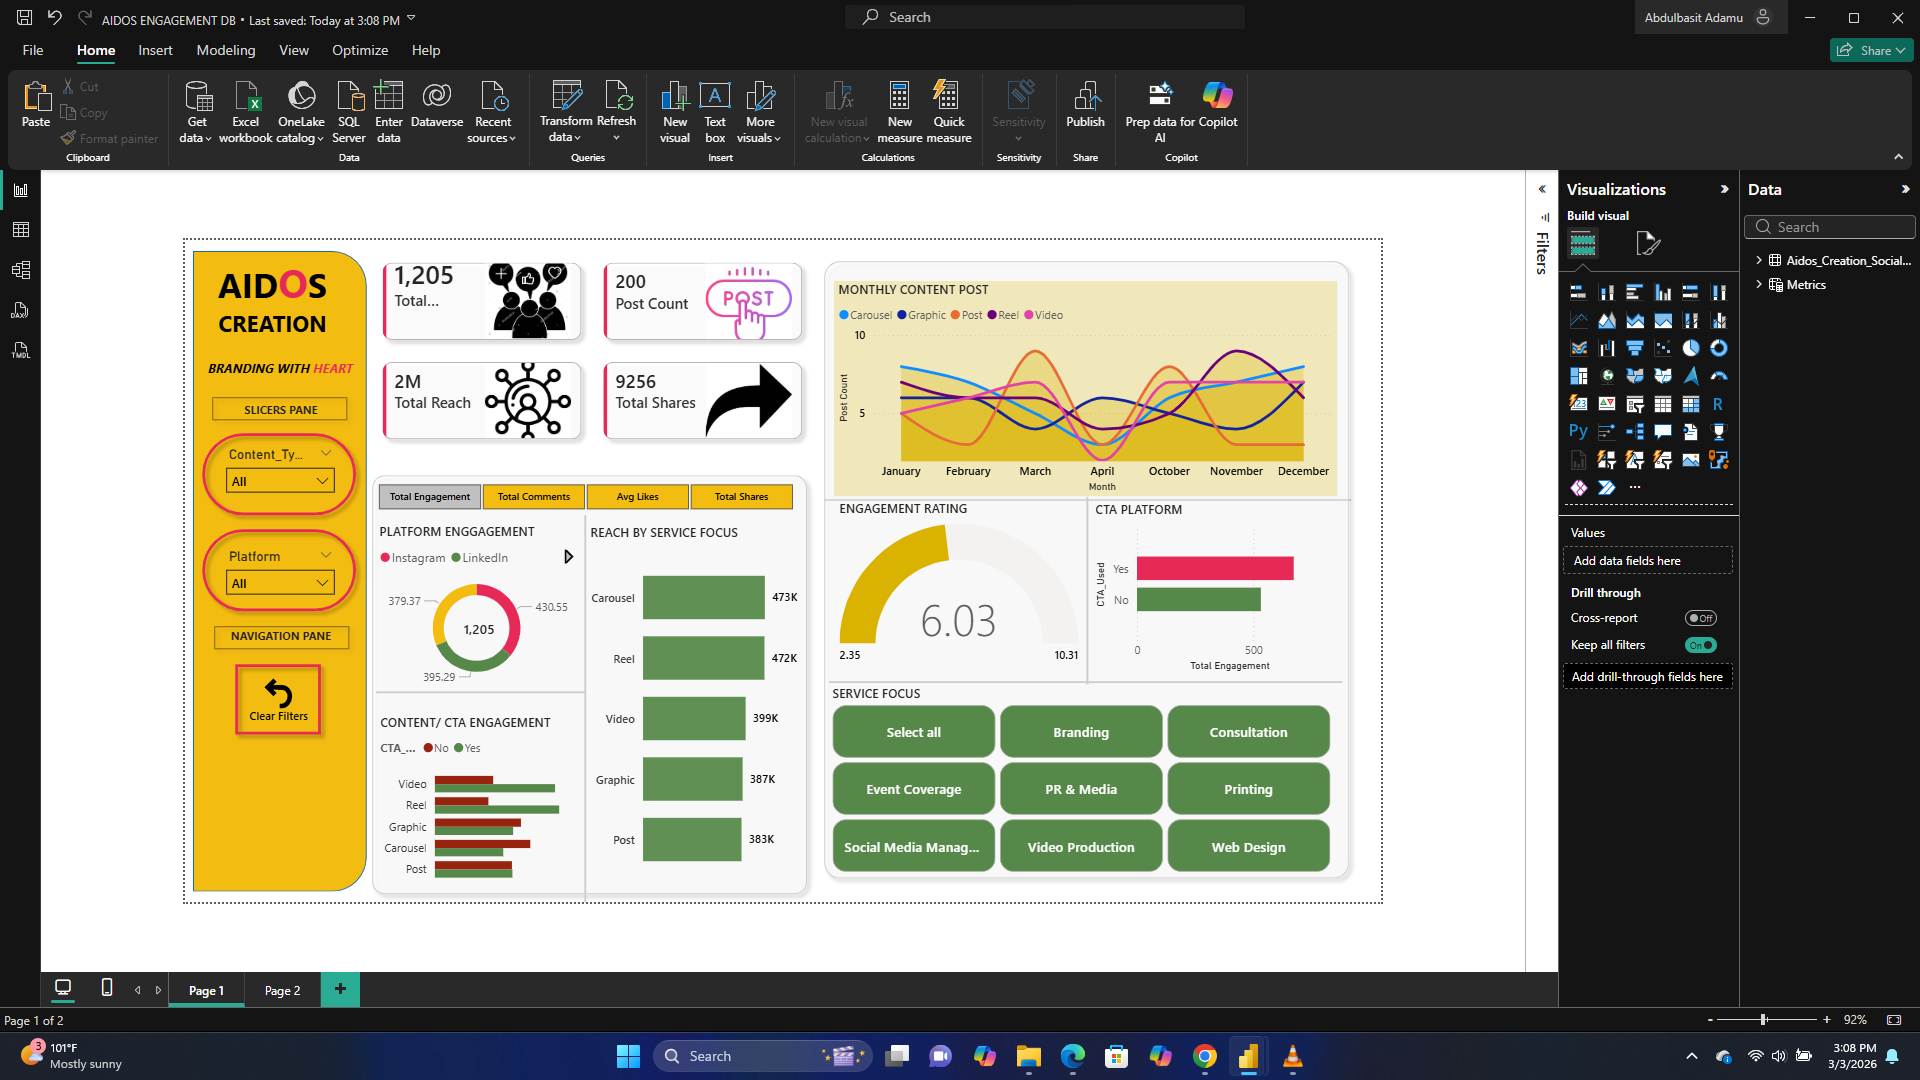

The dashboard page shown, as its layout file describes it:
{"tool":"powerbi","page":{"name":"Page 1","canvas":[1280,720],"ordinal":0},"visuals":[{"type":"cardVisual","fields":{"Data":["Aidos_Creation_Social_Data.Total Engagement","Aidos_Creation_Social_Data.Post Count","Aidos_Creation_Social_Data.Total Reach","Aidos_Creation_Social_Data.Total Shares"]},"box":[198,7.9,490.5,226.9],"z":0},{"type":"shape","box":[9.2,11.8,188.9,696.4],"z":1000},{"type":"textbox","box":[9.2,11.8,173.1,110.2],"z":2000},{"type":"textbox","box":[9.2,108.9,188.9,48.5],"z":3000},{"type":"shape","box":[194.1,246.6,490.5,473.4],"z":4000},{"type":"slicer","fields":{"Values":["Metrics.Metrics"]},"box":[184.9,258.4,499.7,40.7],"z":5000},{"type":"clusteredBarChart","title":"CONTENT/ CTA ENGAGEMENT","fields":{"Y":["Aidos_Creation_Social_Data.Total Engagement"],"Category":["Aidos_Creation_Social_Data.Content_Type"],"Series":["Aidos_Creation_Social_Data.CTA_Used"]},"box":[207.2,515.4,220.3,192.8],"z":6000},{"type":"donutChart","title":"PLATFORM ENGGAGEMENT","fields":{"Y":["Aidos_Creation_Social_Data.Total Engagement"],"Category":["Aidos_Creation_Social_Data.Platform"]},"box":[206.3,308.1,220.8,182.5],"z":7000},{"type":"shape","box":[695.1,234.8,573.1,95.7],"z":8000},{"type":"shape","box":[417,299,35.4,421],"z":9000},{"type":"shape","box":[207.2,466.9,228.2,48.5],"z":10000},{"type":"clusteredBarChart","title":"REACH BY SERVICE FOCUS","fields":{"Category":["Aidos_Creation_Social_Data.Service_Focus","Aidos_Creation_Social_Data.Content_Type"],"Y":["Aidos_Creation_Social_Data.Total Reach"]},"box":[435.4,308.2,234.8,400],"z":11000},{"type":"shape","box":[686.3,14.5,588.4,688.9],"z":12000},{"type":"lineChart","title":"MONTHLY CONTENT POST","fields":{"Category":["Aidos_Creation_Social_Data.Post_Date.Variation.Date Hierarchy.Month"],"Y":["Aidos_Creation_Social_Data.Post Count"],"Series":["Aidos_Creation_Social_Data.Content_Type"]},"box":[705.5,45,547.5,233.9],"z":13000},{"type":"cardVisual","fields":{"Data":["Aidos_Creation_Social_Data.Total Engagement"]},"box":[285.6,370.2,88.6,103.1],"z":14000},{"type":"advancedSlicerVisual","title":"SERVICE FOCUS","fields":{"Values":["Aidos_Creation_Social_Data.Service_Focus"]},"box":[699.1,483.2,553.9,209.5],"z":15000},{"type":"gauge","title":"ENGAGEMENT RATING","fields":{"Y":["Avg(Aidos_Creation_Social_Data.Engagement_Rate_%)"],"MinValue":["Min(Aidos_Creation_Social_Data.Engagement_Rate_%)"],"MaxValue":["Max(Aidos_Creation_Social_Data.Engagement_Rate_%)1"],"TargetValue":["CountNonNull(Aidos_Creation_Social_Data.CTA_Used)"]},"box":[706.1,283,269.8,190.4],"z":16000},{"type":"shape","box":[962.6,279,35.7,203.6],"z":17000},{"type":"shape","box":[699.5,470.7,558,19.8],"z":18000},{"type":"clusteredBarChart","title":"CTA PLATFORM","fields":{"Y":["Aidos_Creation_Social_Data.Total Engagement"],"Category":["Aidos_Creation_Social_Data.CTA_Used"]},"box":[984.9,283.7,267.4,189.5],"z":19000},{"type":"shape","box":[9.3,201,185.1,107.1],"z":20000},{"type":"slicer","fields":{"Values":["Aidos_Creation_Social_Data.Content_Type"]},"box":[34.4,219.5,137.5,59.5],"z":21000},{"type":"shape","box":[9.3,305.5,185.1,107.1],"z":22000},{"type":"slicer","fields":{"Values":["Aidos_Creation_Social_Data.Platform"]},"box":[34.4,330.6,137.5,59.5],"z":23000},{"type":"shape","box":[45.4,452.5,111,94.3],"z":24000},{"type":"shape","box":[20.3,162.4,164.8,43],"z":25000},{"type":"textbox","box":[0,152.8,209,47.8],"z":26000},{"type":"textbox","box":[0,398.8,209,47.8],"z":27000},{"type":"shape","box":[22.7,410.7,164.8,43],"z":28000},{"type":"actionButton","box":[54.9,463.3,93.1,74],"z":29000}]}

Visuals, with their boxes on the page's 1280x720 design canvas (x1, y1, x2, y2). These are canvas units, not pixel positions in the 1920x1080 screenshot, which may show the page scaled, cropped or inside an application window:
cardVisual - Aidos_Creation_Social_Data.Total Engagement x Aidos_Creation_Social_Data.Post Count: {"left": 198, "top": 8, "right": 688, "bottom": 235}
shape: {"left": 9, "top": 12, "right": 198, "bottom": 708}
textbox: {"left": 9, "top": 12, "right": 182, "bottom": 122}
textbox: {"left": 9, "top": 109, "right": 198, "bottom": 157}
shape: {"left": 194, "top": 247, "right": 685, "bottom": 720}
slicer - Metrics.Metrics: {"left": 185, "top": 258, "right": 685, "bottom": 299}
"CONTENT/ CTA ENGAGEMENT" clusteredBarChart: {"left": 207, "top": 515, "right": 428, "bottom": 708}
"PLATFORM ENGGAGEMENT" donutChart: {"left": 206, "top": 308, "right": 427, "bottom": 491}
shape: {"left": 695, "top": 235, "right": 1268, "bottom": 330}
shape: {"left": 417, "top": 299, "right": 452, "bottom": 720}
shape: {"left": 207, "top": 467, "right": 435, "bottom": 515}
"REACH BY SERVICE FOCUS" clusteredBarChart: {"left": 435, "top": 308, "right": 670, "bottom": 708}
shape: {"left": 686, "top": 14, "right": 1275, "bottom": 703}
"MONTHLY CONTENT POST" lineChart: {"left": 706, "top": 45, "right": 1253, "bottom": 279}
cardVisual - Aidos_Creation_Social_Data.Total Engagement: {"left": 286, "top": 370, "right": 374, "bottom": 473}
"SERVICE FOCUS" advancedSlicerVisual: {"left": 699, "top": 483, "right": 1253, "bottom": 693}
"ENGAGEMENT RATING" gauge: {"left": 706, "top": 283, "right": 976, "bottom": 473}
shape: {"left": 963, "top": 279, "right": 998, "bottom": 483}
shape: {"left": 700, "top": 471, "right": 1258, "bottom": 490}
"CTA PLATFORM" clusteredBarChart: {"left": 985, "top": 284, "right": 1252, "bottom": 473}
shape: {"left": 9, "top": 201, "right": 194, "bottom": 308}
slicer - Aidos_Creation_Social_Data.Content_Type: {"left": 34, "top": 220, "right": 172, "bottom": 279}
shape: {"left": 9, "top": 306, "right": 194, "bottom": 413}
slicer - Aidos_Creation_Social_Data.Platform: {"left": 34, "top": 331, "right": 172, "bottom": 390}
shape: {"left": 45, "top": 452, "right": 156, "bottom": 547}
shape: {"left": 20, "top": 162, "right": 185, "bottom": 205}
textbox: {"left": 0, "top": 153, "right": 209, "bottom": 201}
textbox: {"left": 0, "top": 399, "right": 209, "bottom": 447}
shape: {"left": 23, "top": 411, "right": 188, "bottom": 454}
actionButton: {"left": 55, "top": 463, "right": 148, "bottom": 537}
